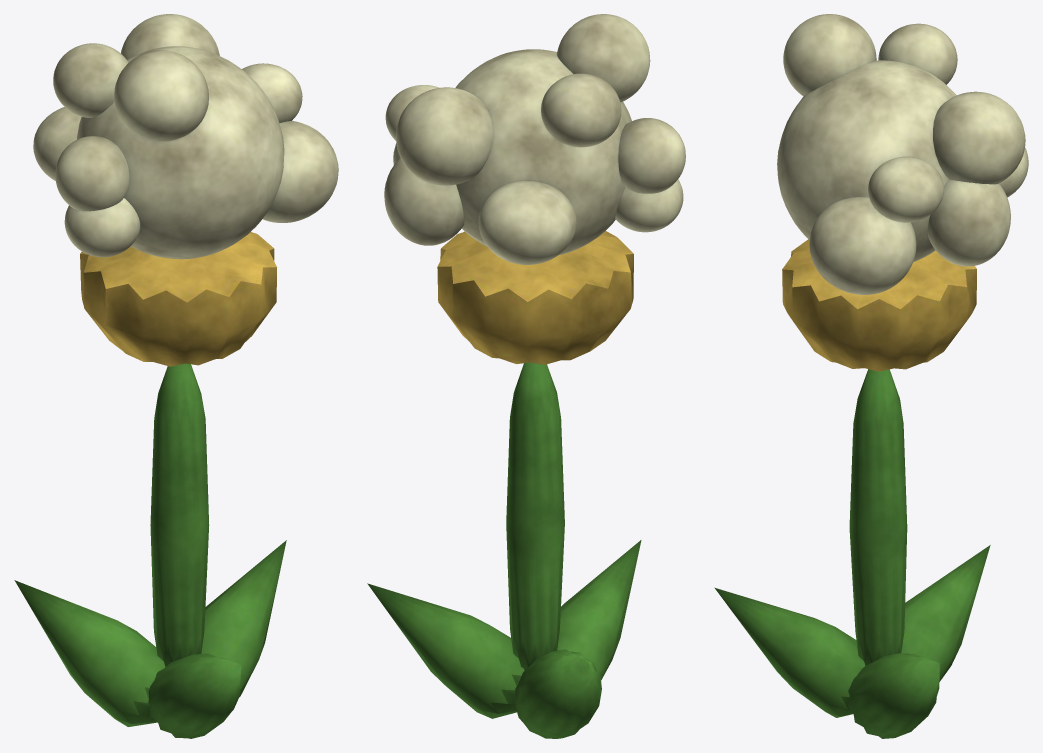
File: popcorn_plant.glb
3 views of the same model, side by side, from view 1: azimuth 30°, elevation 25°; view 2: azimuth 150°, elevation 25°; view 3: azimuth 270°, elevation 25° (orthographic). The views are drawn at different scales.
Parts seen in each view (by area): view 1: ColonyBody, Turret_1; view 2: ColonyBody, Turret_1; view 3: Turret_1, ColonyBody.
Boxes of the visible parts, x1,y1,x2,y2 form: ColonyBody: (14, 232, 286, 738); Turret_1: (33, 14, 338, 259); ColonyBody: (367, 231, 641, 738); Turret_1: (384, 14, 685, 264); Turret_1: (777, 14, 1028, 294); ColonyBody: (714, 239, 990, 738).
Size of the model in its own units: 0.6462 by 1.56 by 0.6506.
3 materials, 3 textured.
